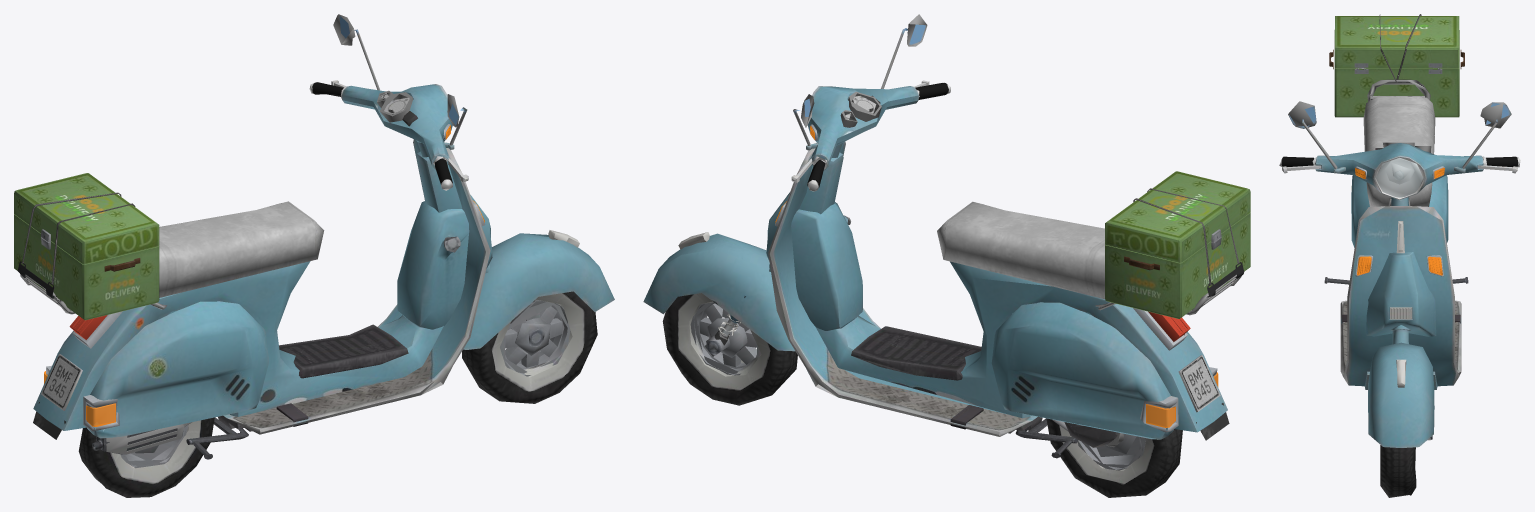
Rendered from vespa.glb.
3 renders of one model, left to right at view 1: azimuth 30°, elevation 25°; view 2: azimuth 150°, elevation 25°; view 3: azimuth 270°, elevation 25°, orthographic. The views are drawn at different scales.
Bounding box in the file's own units: 2.02 × 1.27 × 0.8283.
Materials: 4 (1 with a texture image).
